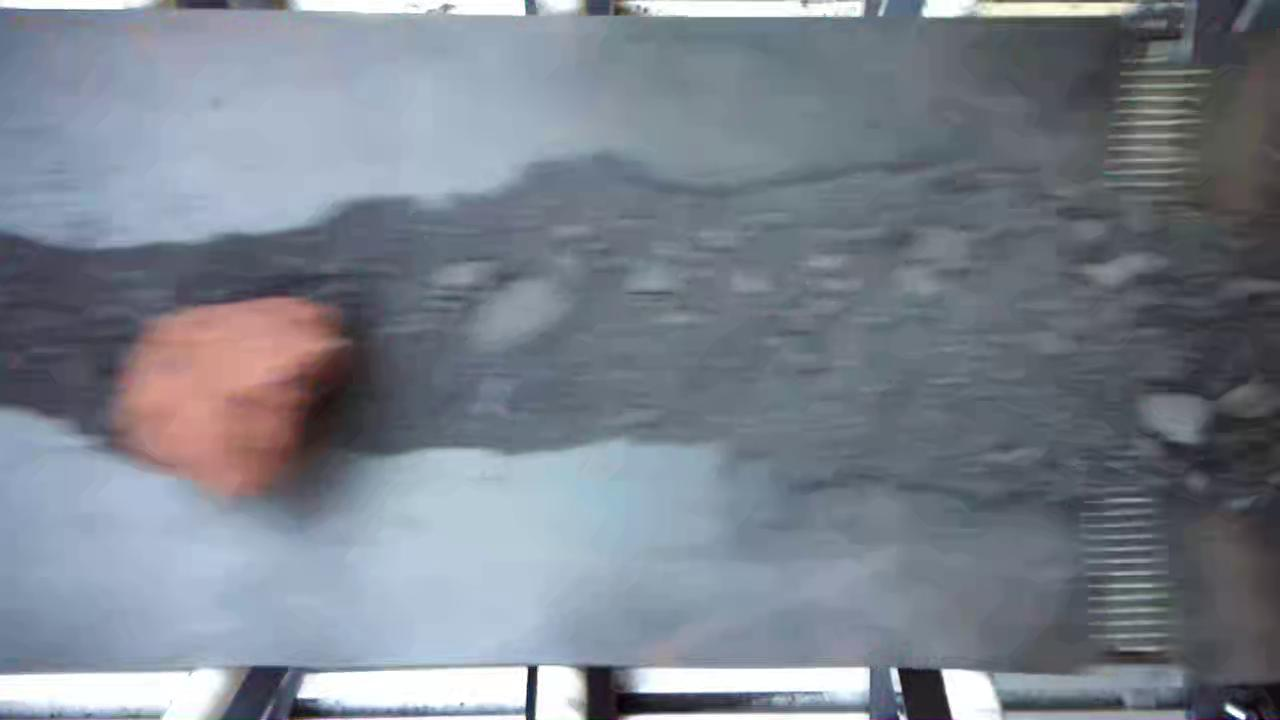conveyor: (7, 29, 1273, 654)
